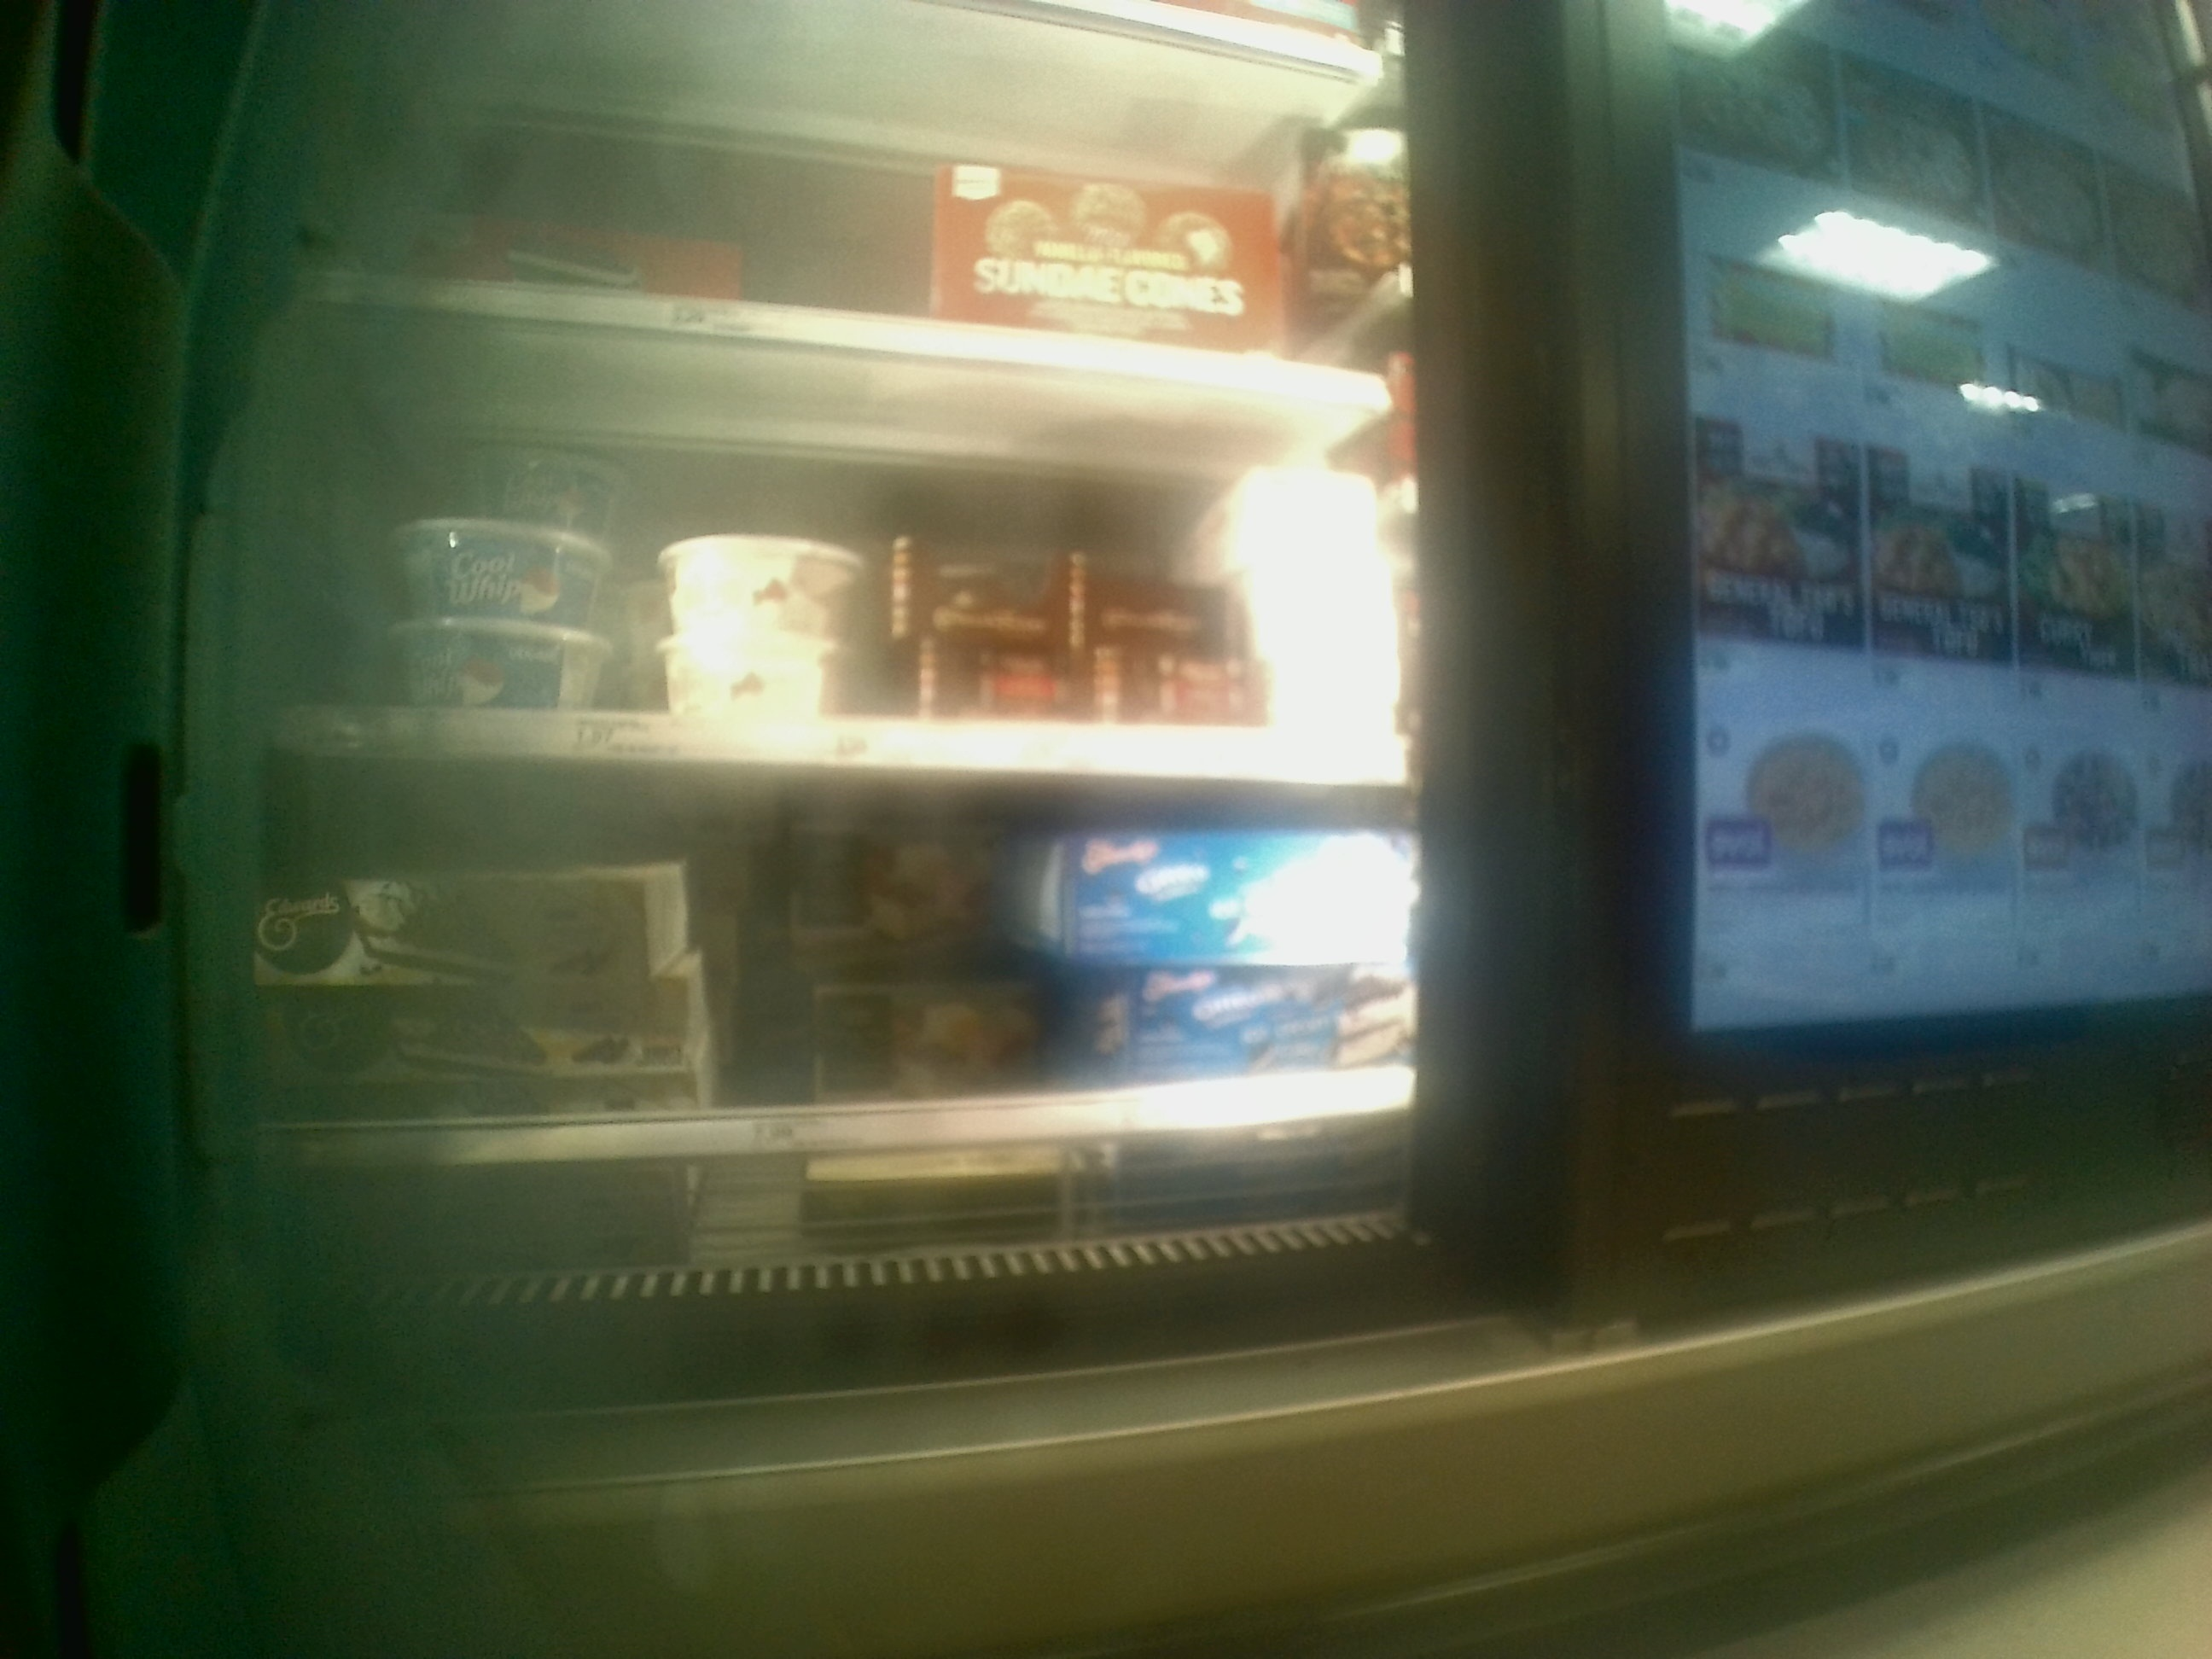frozen-food-shelf: (233, 767, 1416, 1175)
